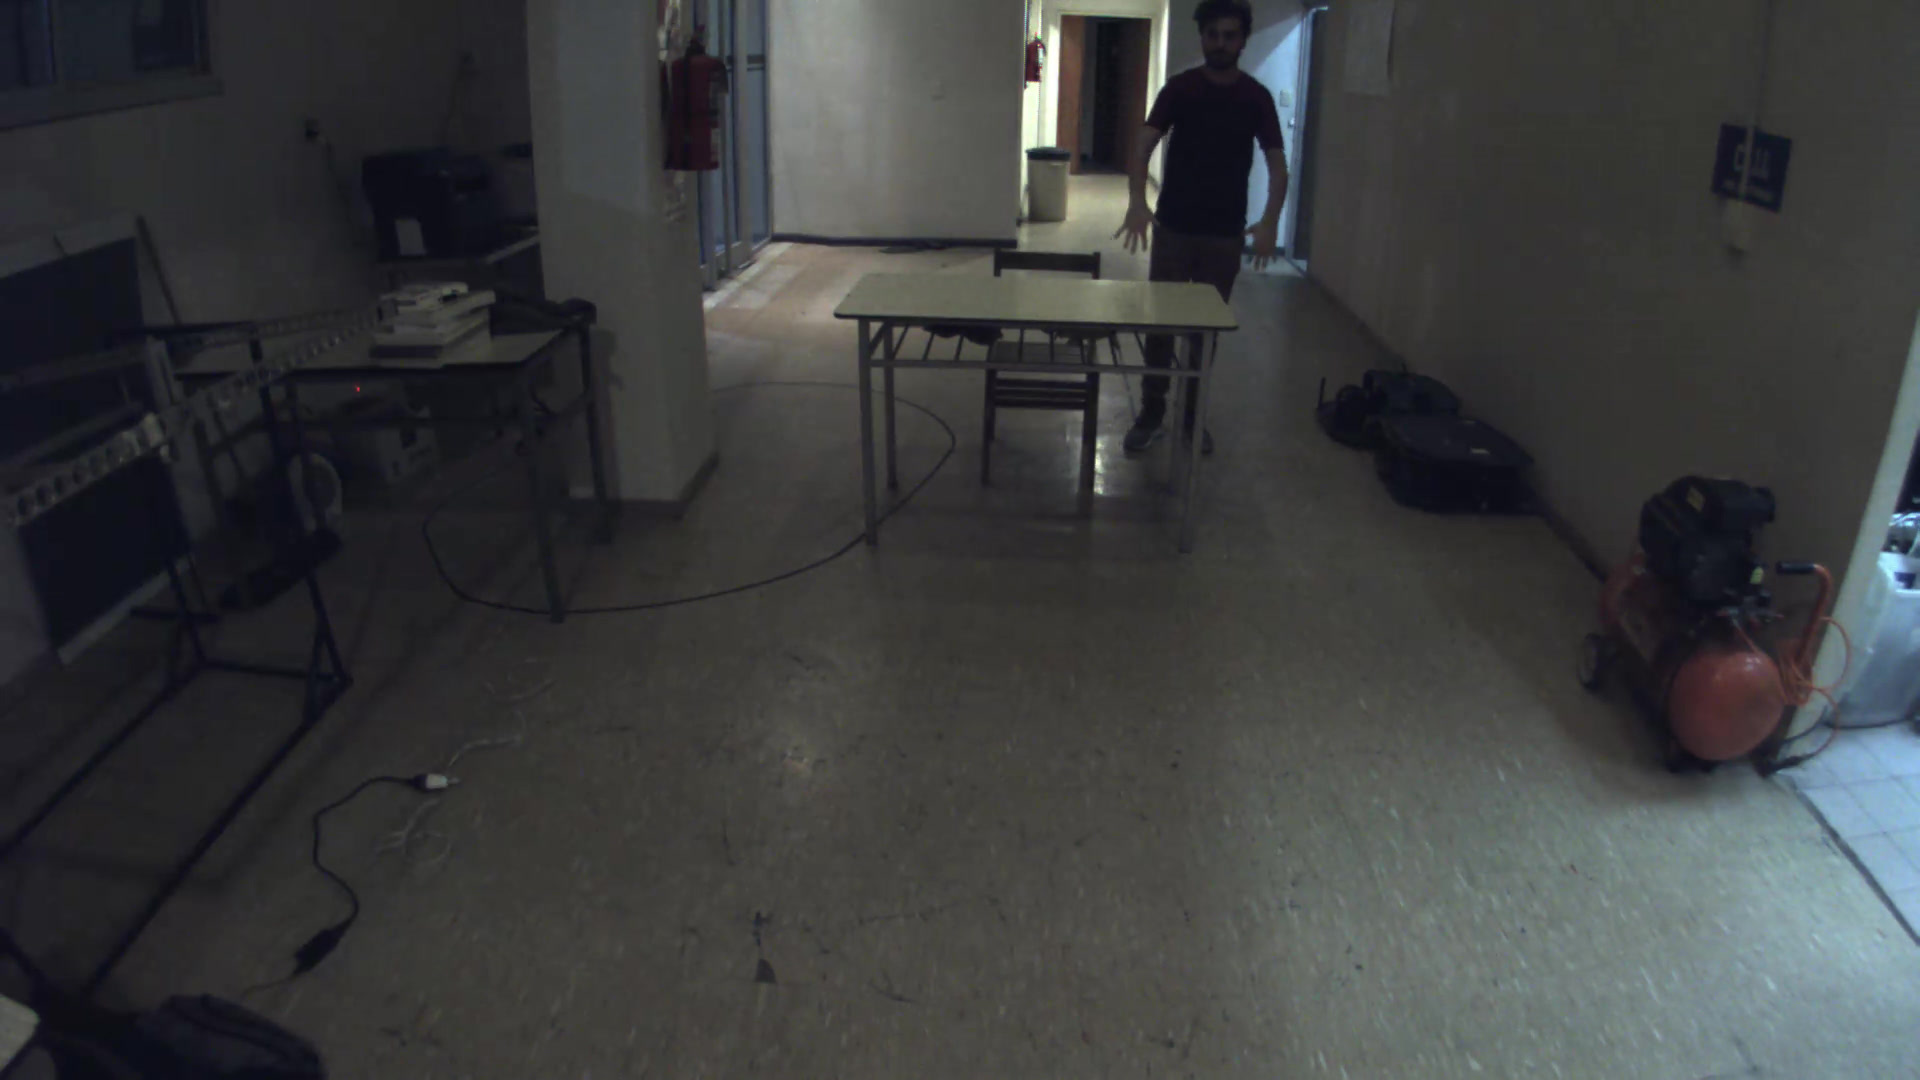hand: (1105, 191, 1159, 256), (1242, 206, 1294, 262)
